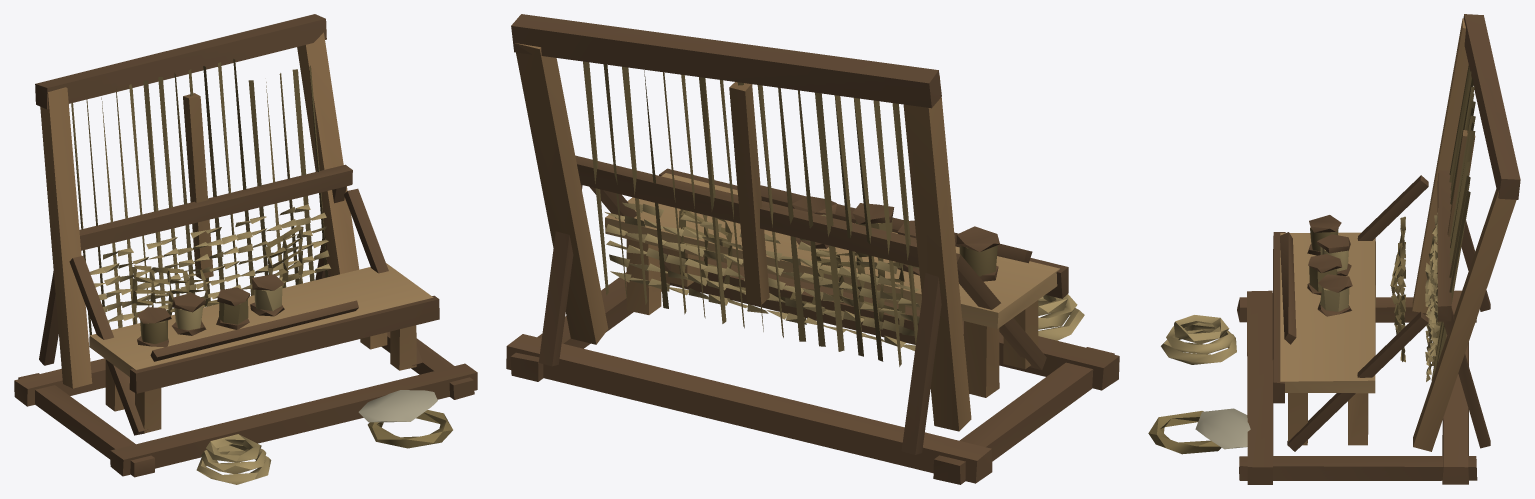
The model's file is loom_frame_b_lod2.glb.
3 renders of one model, left to right at view 1: azimuth 30°, elevation 25°; view 2: azimuth 150°, elevation 25°; view 3: azimuth 270°, elevation 25°, orthographic. The views are drawn at different scales.
Visible parts, largest first — view 1: Surface.001; view 2: Surface.001; view 3: Surface.001.
Part boxes in pixels (<box>): Surface.001: <box>14,14,477,484</box>; Surface.001: <box>506,14,1119,484</box>; Surface.001: <box>1148,14,1520,484</box>.
Size of the model in its own units: 5.58 by 4.55 by 4.95.
